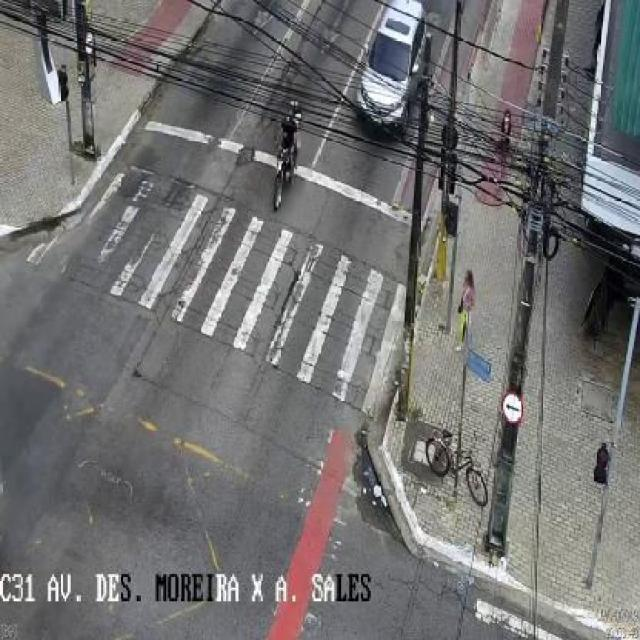Car: (356, 0, 434, 139)
Cycle: (421, 423, 491, 511), (268, 148, 298, 214)
